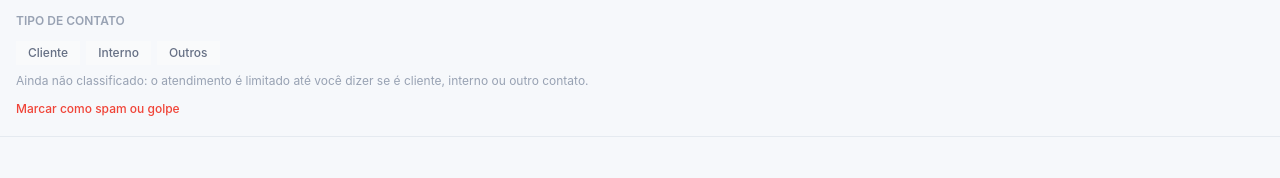
ContactKindControl — Outros and unclassified › shows what went wrong and does not report a change when the API refuses
Click the button "Outros": (188, 53) x1=157 y1=41 x2=220 y2=65
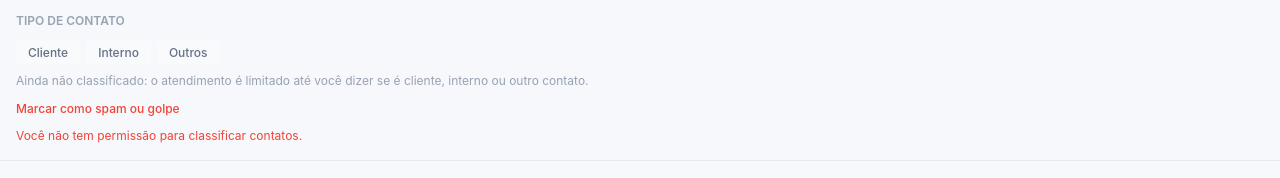
Expected: the message reads "Você não tem permissão para classificar contatos.", x1=16 y1=128 x2=302 y2=142
